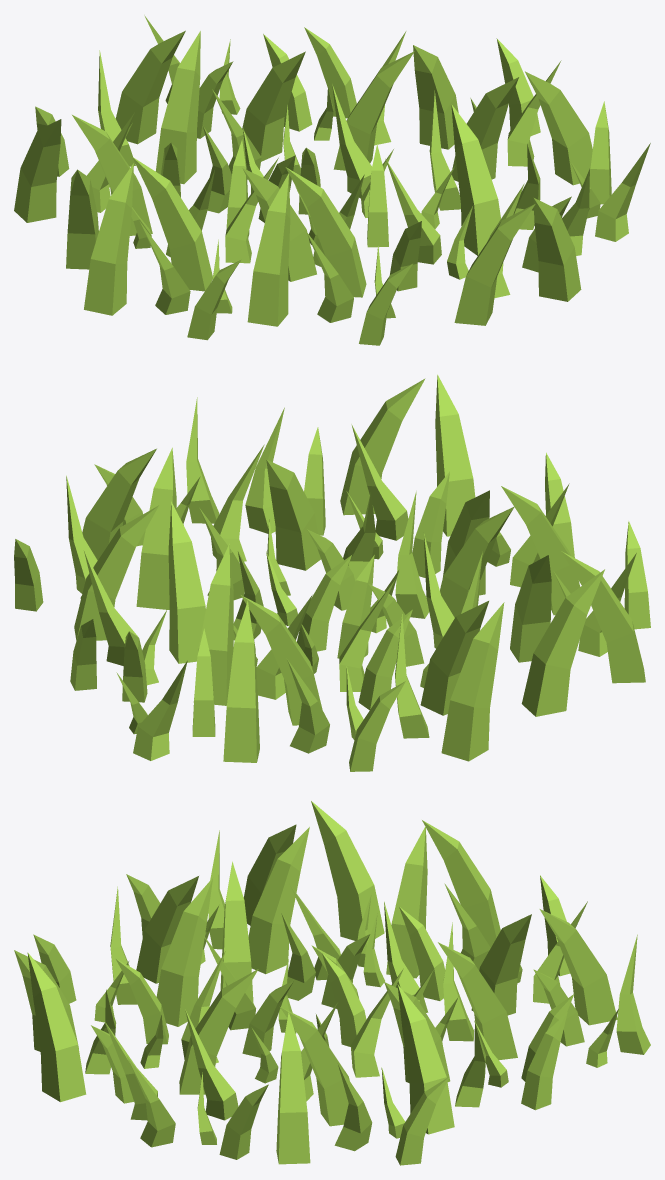
Rendered from shrub2.glb.
The picture shows the model from 3 angles, top to bottom: view 1: azimuth 30°, elevation 25°; view 2: azimuth 150°, elevation 25°; view 3: azimuth 270°, elevation 25°; orthographic projection. The views are drawn at different scales.
Visible parts, largest first — view 1: Shrub.002; view 2: Shrub.002; view 3: Shrub.002.
Part boxes in pixels (x1=…): Shrub.002: x1=14, y1=15, x2=650, y2=345; Shrub.002: x1=14, y1=374, x2=650, y2=771; Shrub.002: x1=14, y1=801, x2=650, y2=1165.
Bounding box in the file's own units: 1.4 × 0.3053 × 1.48.
1 material, 1 textured.
